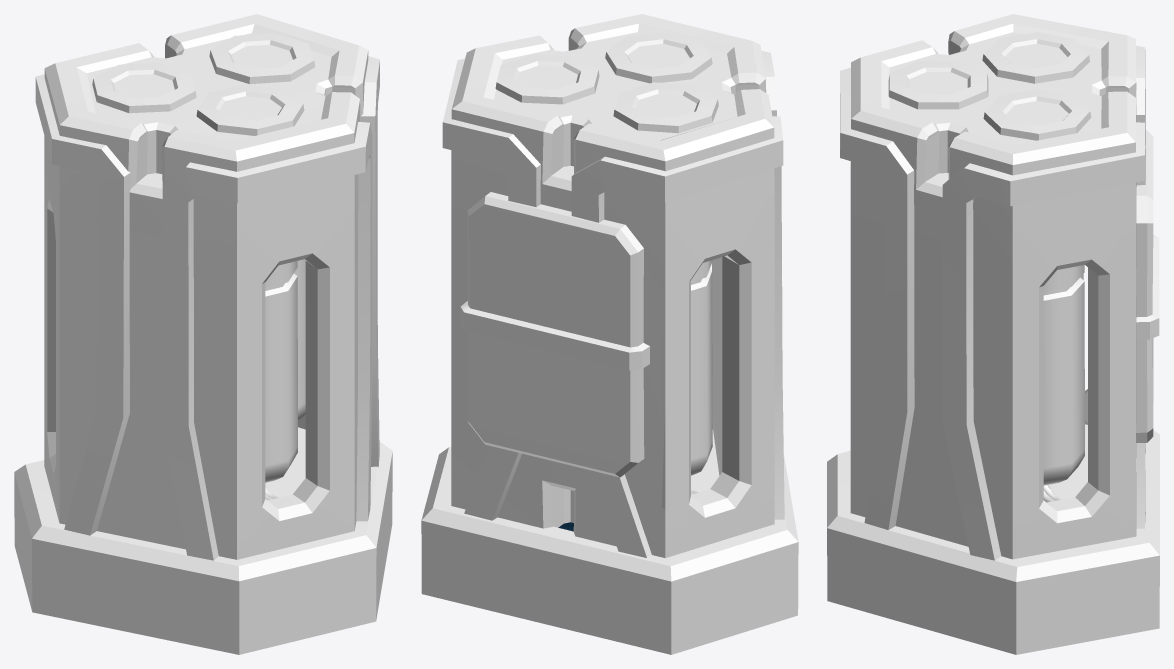
Rendered from ElectricityBoxBlue.glb.
The picture shows the model from 3 angles, left to right: view 1: azimuth 30°, elevation 25°; view 2: azimuth 150°, elevation 25°; view 3: azimuth 270°, elevation 25°; orthographic projection.
Visible parts, largest first — view 1: DamageZoneHologram; view 2: DamageZoneHologram; view 3: DamageZoneHologram.
Part boxes in pixels (left/top/right/bottom): DamageZoneHologram: left=14, top=14, right=392, bottom=654; DamageZoneHologram: left=421, top=14, right=798, bottom=654; DamageZoneHologram: left=827, top=14, right=1159, bottom=654.
Bounding box in the file's own units: 0.5541 × 0.7209 × 0.4474.
2 materials, 1 textured.
